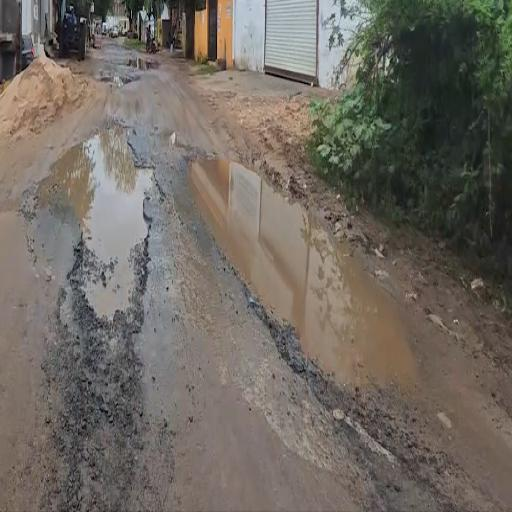pothole: (189, 135, 466, 467), (18, 92, 177, 339)
ravelling: (21, 356, 176, 503)
